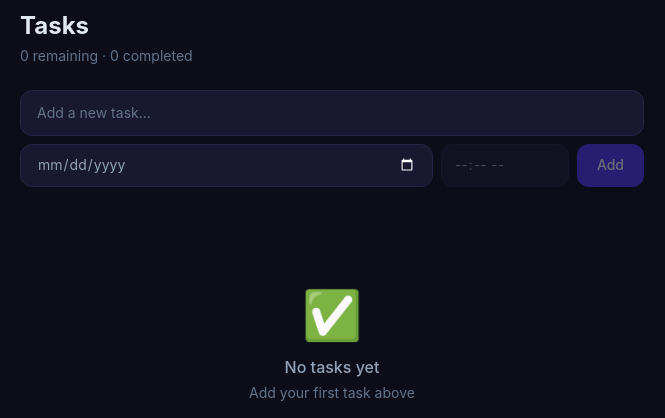
Scenario: TasksPage — toggle task › checking a task moves it to Completed
This screenshot has width=665, height=418.
Step 1. Type "Buy milk" into the field with placeholder "Add a new task…" → (332, 113), box [20, 90, 644, 136]
Then press Enter
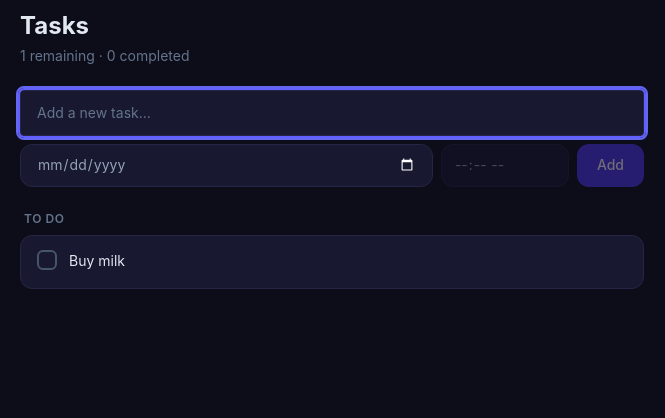
Step 2. Click the button named "mark as done" → (47, 260), box [37, 250, 57, 270]
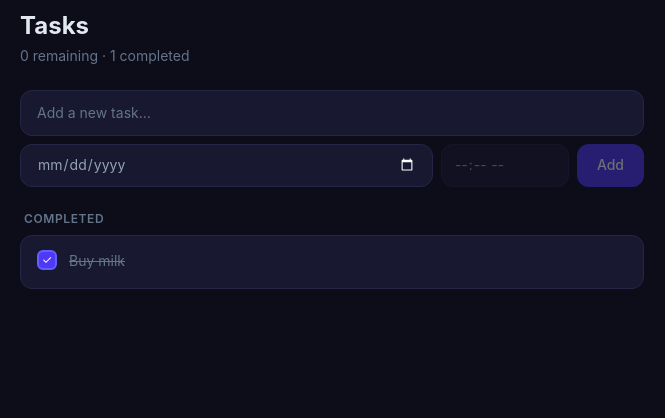
Expected: the text "Completed" is shown, [24, 211, 104, 226]
